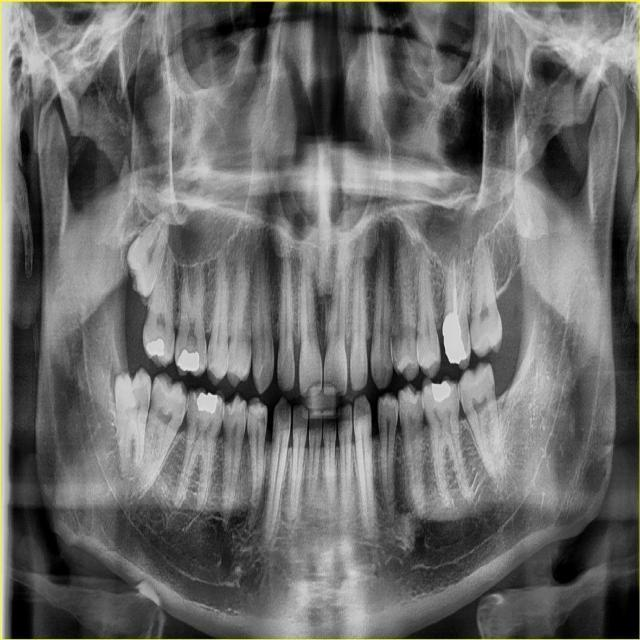Filling: (444, 314, 468, 365), (177, 349, 202, 373), (198, 391, 217, 413), (431, 381, 451, 400), (145, 339, 165, 356), (306, 379, 321, 395), (324, 380, 339, 394)
Root Canal Treatment: (457, 281, 465, 320), (452, 259, 457, 316)
impacted tooth: (114, 370, 152, 479), (125, 209, 171, 296)
